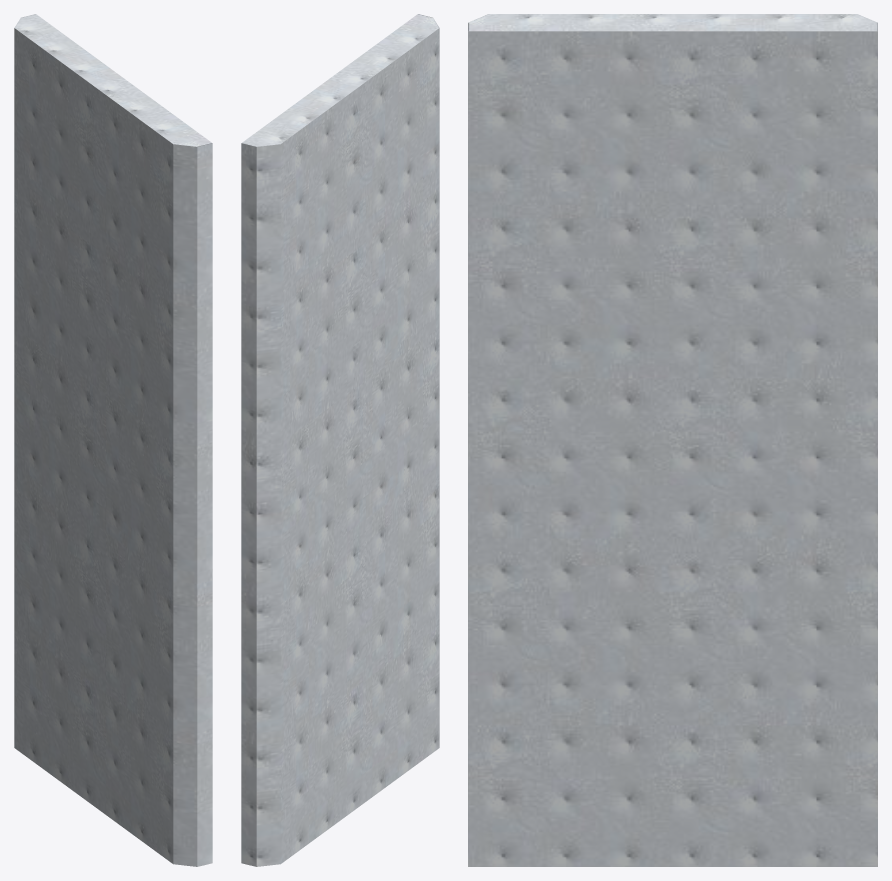
Rendered from SmallWall1.fbx.
The picture shows the model from 3 angles, left to right: view 1: azimuth 30°, elevation 25°; view 2: azimuth 150°, elevation 25°; view 3: azimuth 270°, elevation 25°; orthographic projection. The views are drawn at different scales.
Parts seen in each view (by area): view 1: SmallWall1; view 2: SmallWall1; view 3: SmallWall1.
Part boxes in pixels (left/top/right/bottom): SmallWall1: left=14, top=14, right=212, bottom=866; SmallWall1: left=241, top=14, right=439, bottom=866; SmallWall1: left=468, top=14, right=877, bottom=866.
Size of the model in its own units: 10 by 225 by 100.
Materials: 1 (1 with a texture image).
